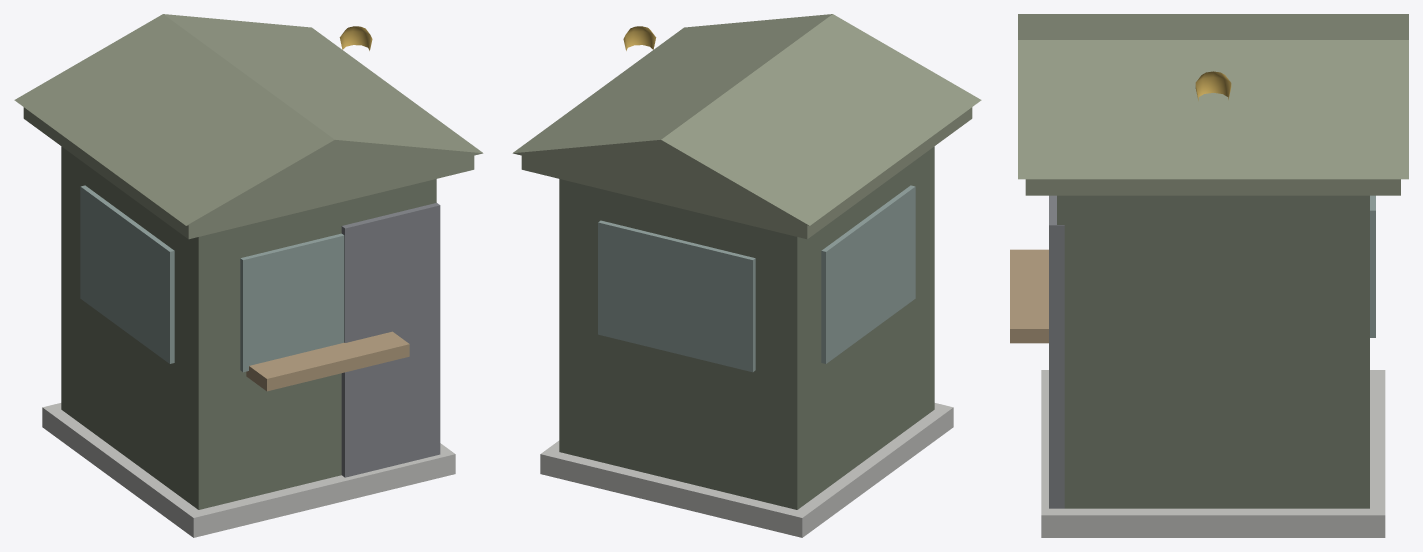
3 renders of one model, left to right at view 1: azimuth 30°, elevation 25°; view 2: azimuth 150°, elevation 25°; view 3: azimuth 270°, elevation 25°, orthographic. The views are drawn at different scales.
Parts seen in each view (by area): view 1: checkpoint-hut; view 2: checkpoint-hut; view 3: checkpoint-hut.
Boxes of the visible parts, x1,y1,x2,y2 form: checkpoint-hut: (14, 14, 483, 537); checkpoint-hut: (512, 14, 981, 537); checkpoint-hut: (1010, 14, 1408, 537).
Size of the model in its own units: 2.5 by 3.16 by 2.55.
